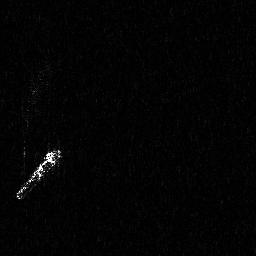ship: (14, 146, 64, 201)
